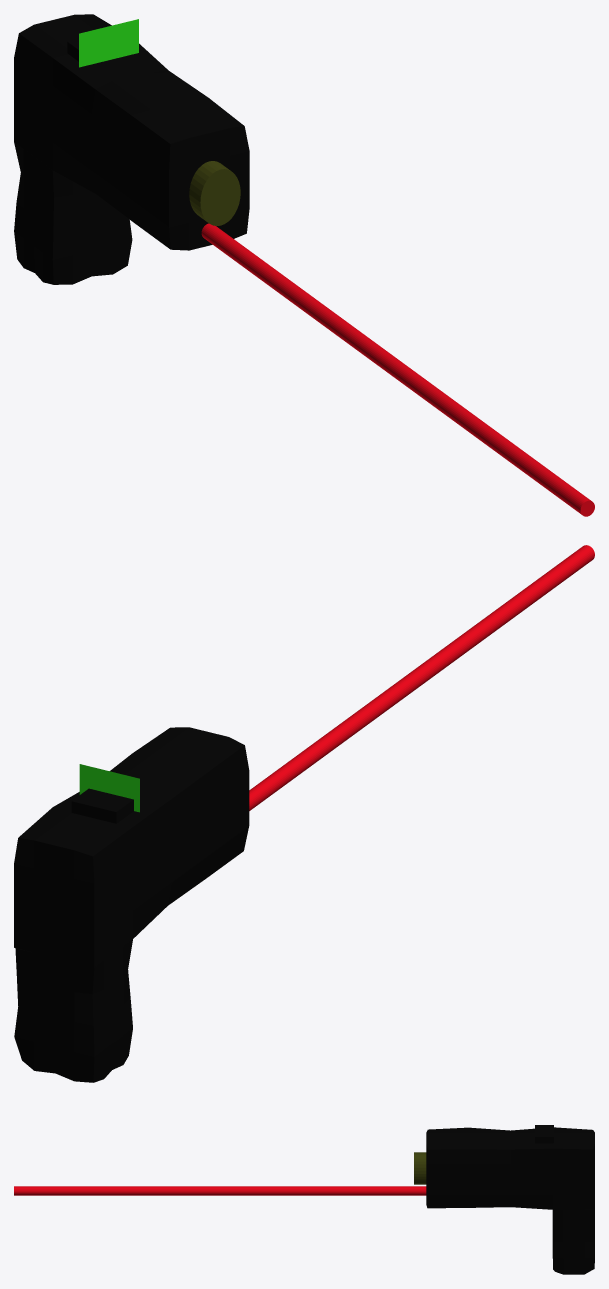
The model's file is Pistol.fbx.
3 renders of one model, top to bottom at view 1: azimuth 30°, elevation 25°; view 2: azimuth 150°, elevation 25°; view 3: azimuth 270°, elevation 25°, orthographic. The views are drawn at different scales.
Visible parts, largest first — view 1: Cube, Cube_002, Cube_005, Cube_004, Cube_001; view 2: Cube, Cube_002, Cube_005, Cube_003, Cube_001; view 3: Cube, Cube_005, Cube_002, Cube_004, Cube_003.
Part boxes in pixels (x1,y1,x2,y2): Cube: (14,14,249,250); Cube_002: (14,142,132,284); Cube_005: (201,223,594,516); Cube_004: (189,161,240,225); Cube_001: (79,19,138,67); Cube: (14,727,249,967); Cube_002: (14,939,132,1082); Cube_005: (249,545,594,810); Cube_003: (71,788,133,823); Cube_001: (79,764,139,812); Cube: (426,1127,594,1209); Cube_005: (14,1186,426,1195); Cube_002: (552,1209,594,1274); Cube_004: (414,1152,426,1184); Cube_003: (535,1125,553,1143).
Bounding box in the file's own units: 24.01 × 75.55 × 275.
